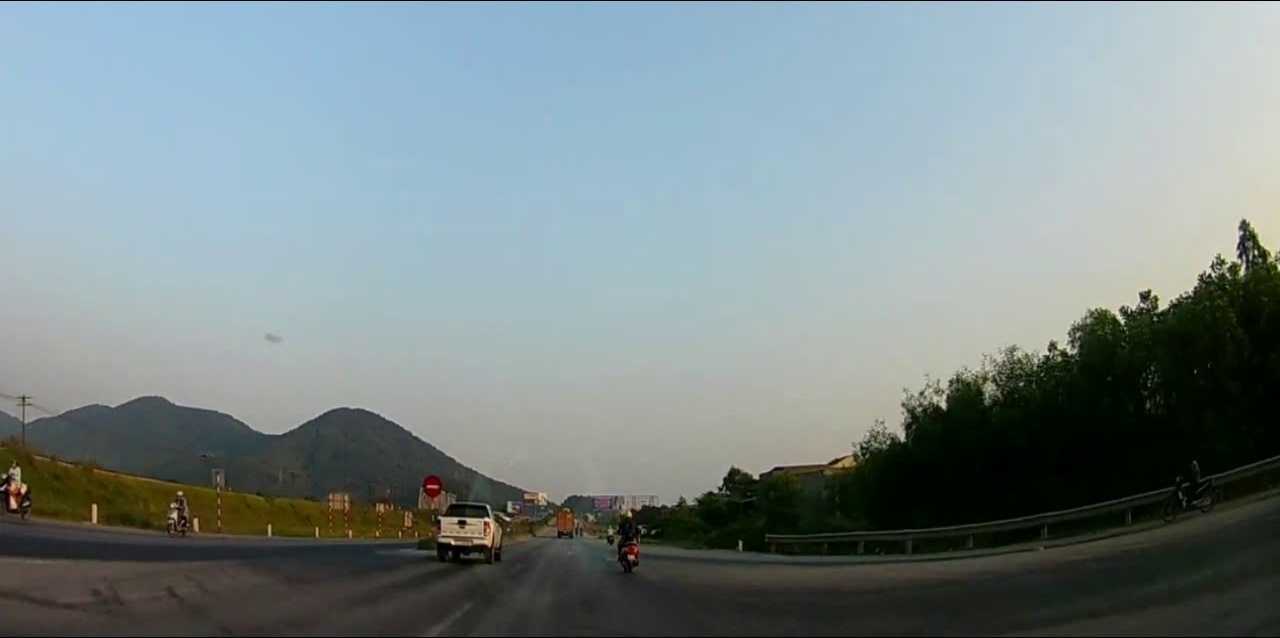Cam di nguoc chieu: (420, 473, 440, 498)
